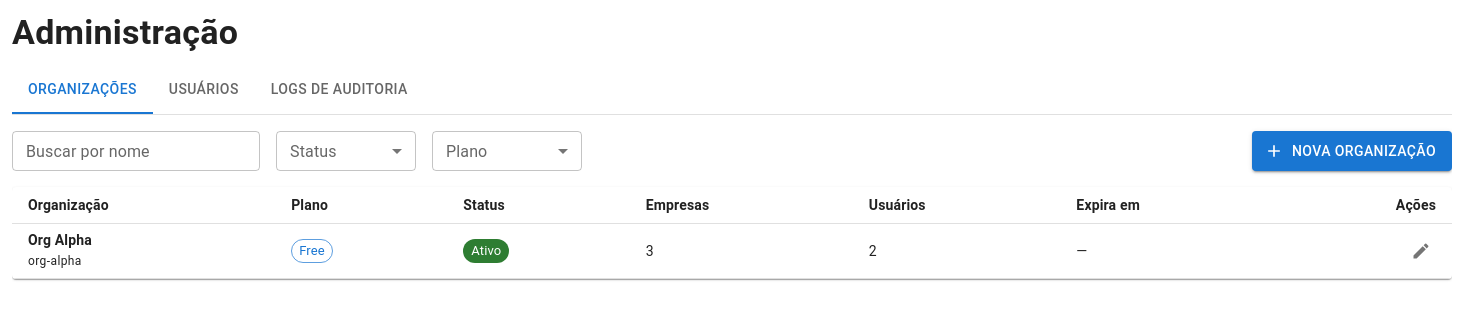
Test: AdminPage › exibe logs ao abrir a aba Logs de Auditoria
Expected: the text "Org Alpha" is shown, [28,232,92,248]
Click the tab "Logs de Auditoria": (339, 90) [255,66,424,114]
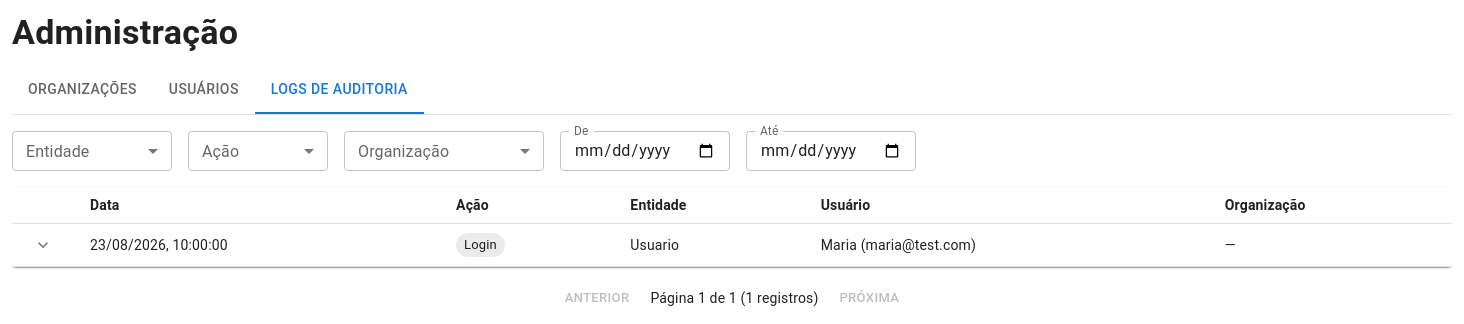
Now the text "Maria (maria@test.com)" is shown, box [805,223,1209,266]
Now the text "Usuario" is shown, box [614,223,805,266]
